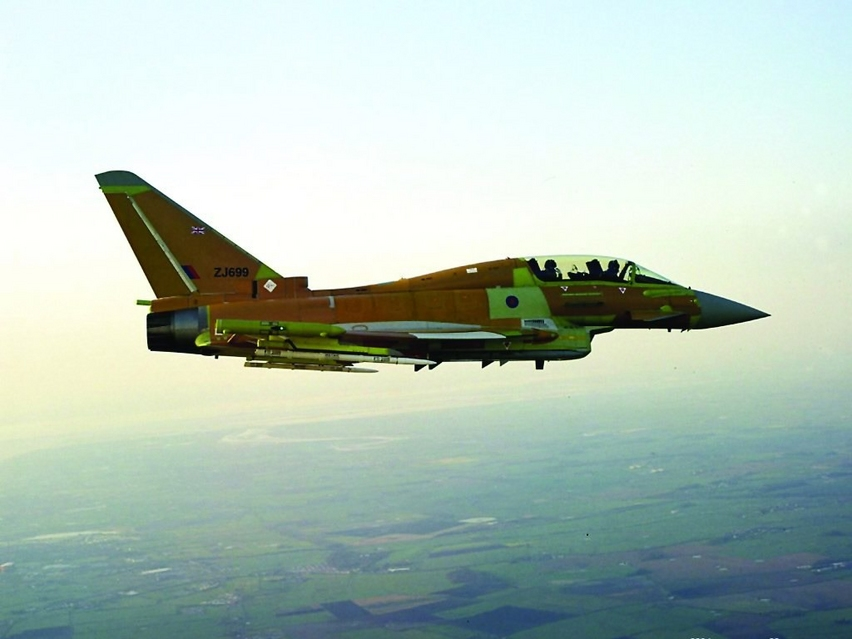airplane: (95, 169, 774, 377)
